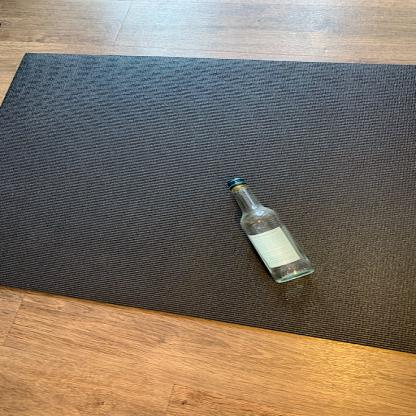trash: (221, 174, 314, 285)
